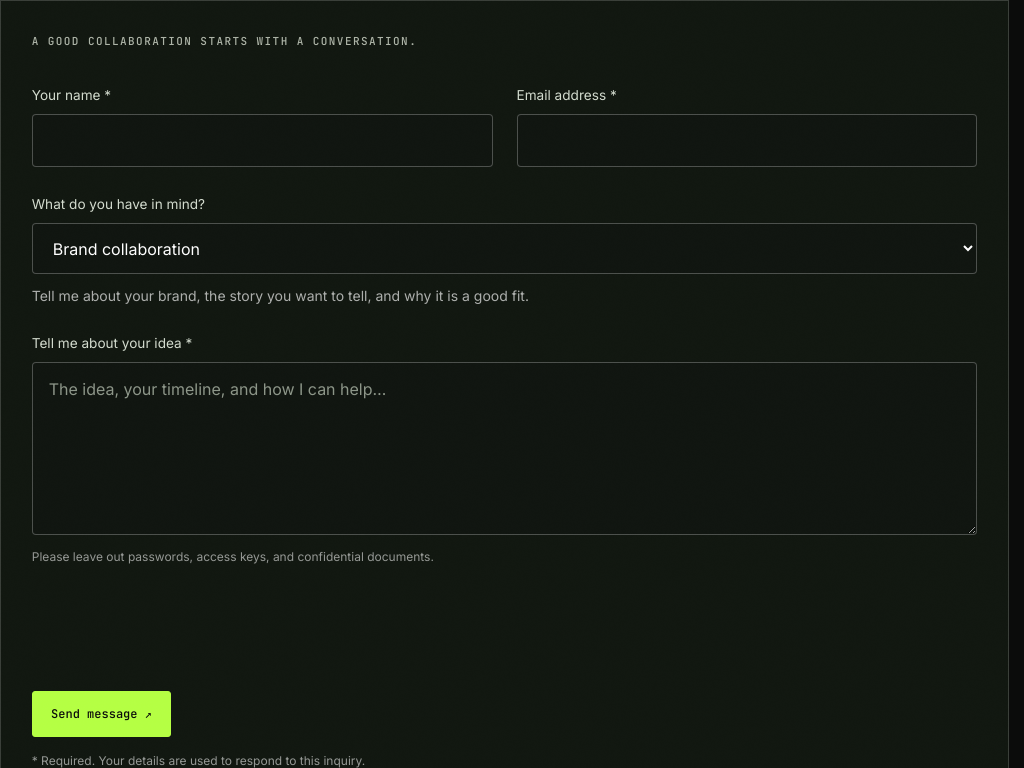
Scenario: contact submission states › includes g-recaptcha-response when the widget is present
Type "Preview Tester" into the field labelled "Your name *" at (262, 140), box left=32, top=114, right=492, bottom=167
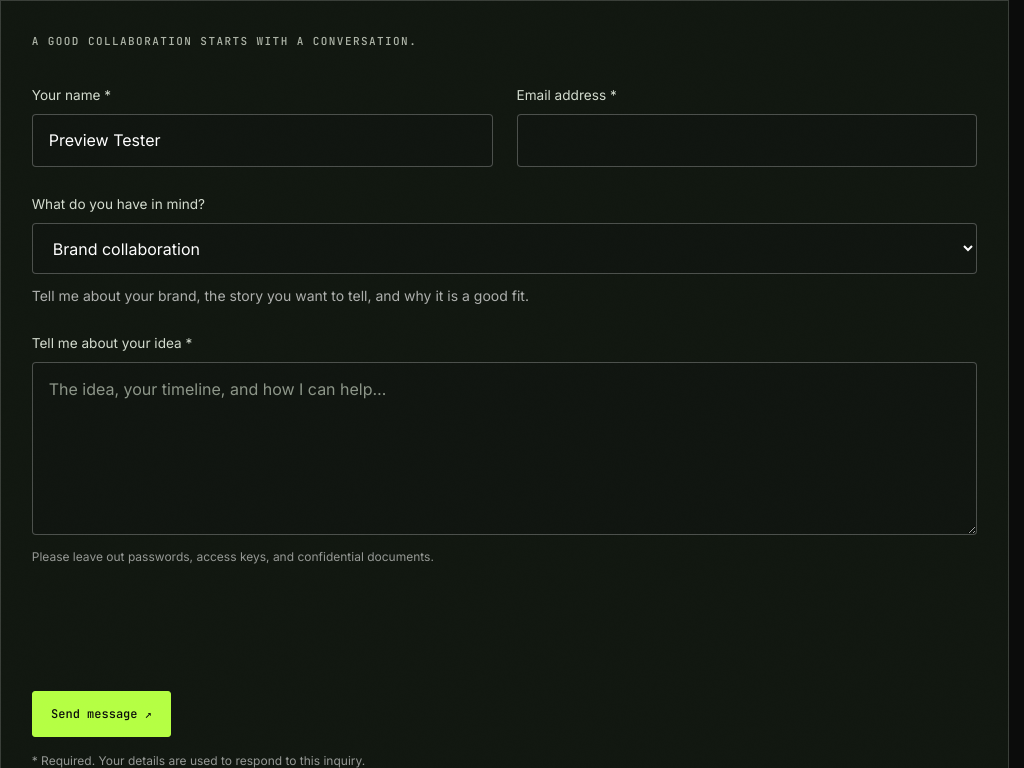
Type "test@example.com" into the field labelled "Email address *" at (747, 140), box left=516, top=114, right=977, bottom=167
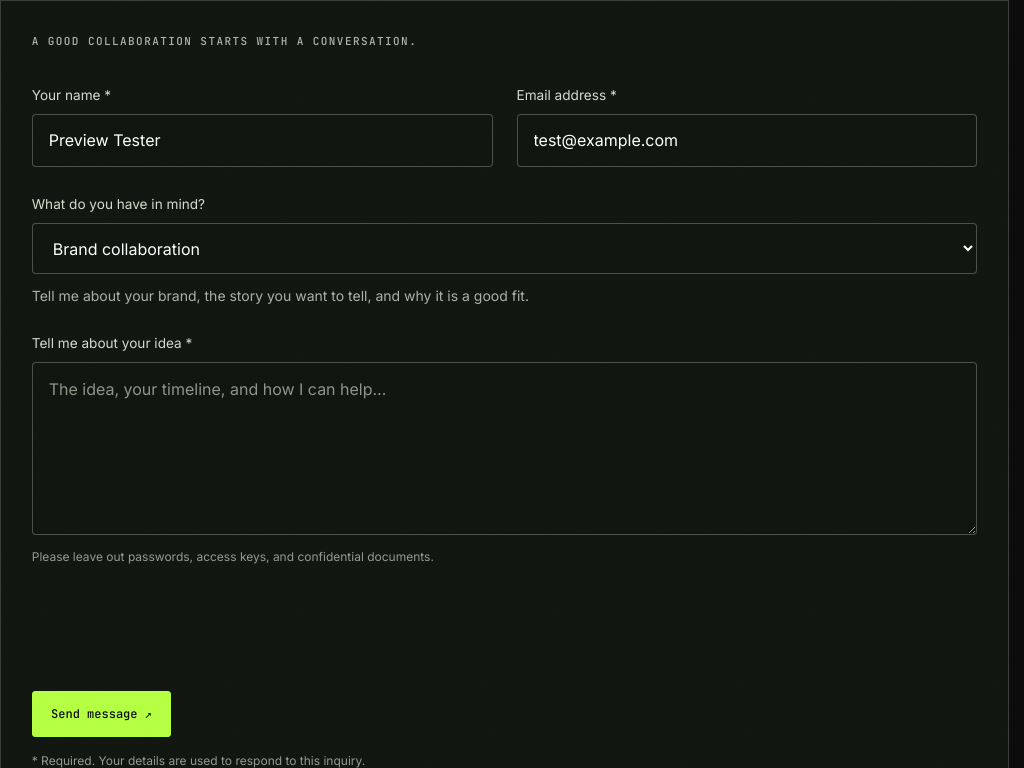
Type "This is a local test only." into the text box labelled "Tell me about your idea *" at (504, 449), box left=32, top=362, right=977, bottom=535
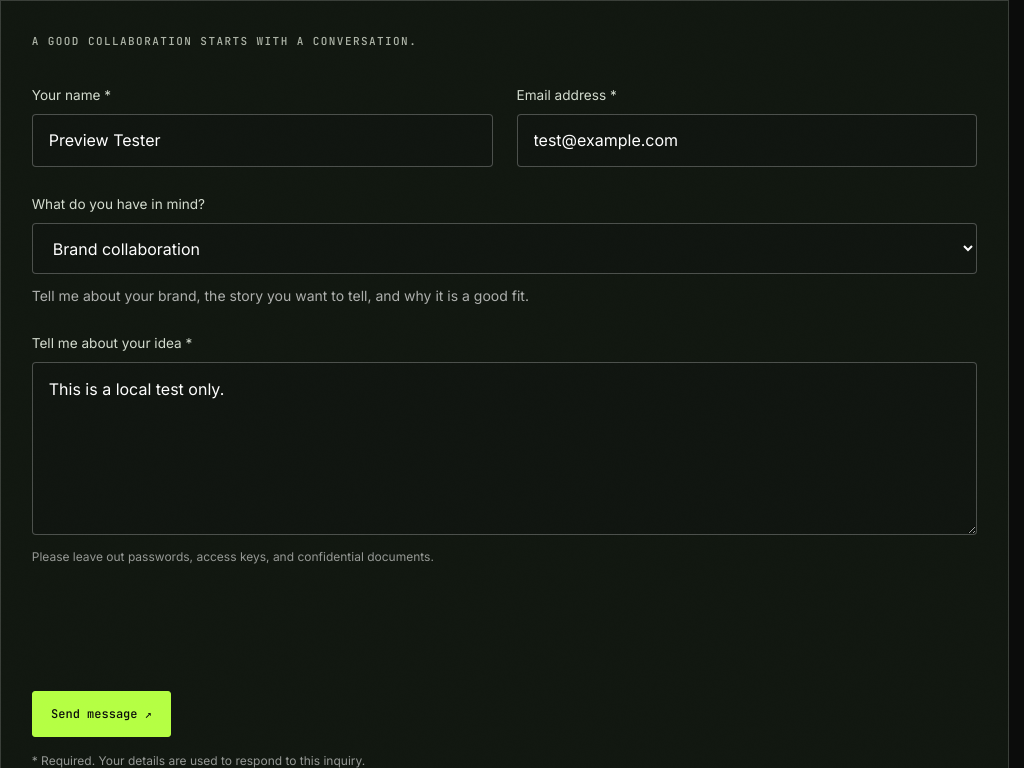
Click the button "Send message ↗" at (102, 714), box left=32, top=691, right=171, bottom=737
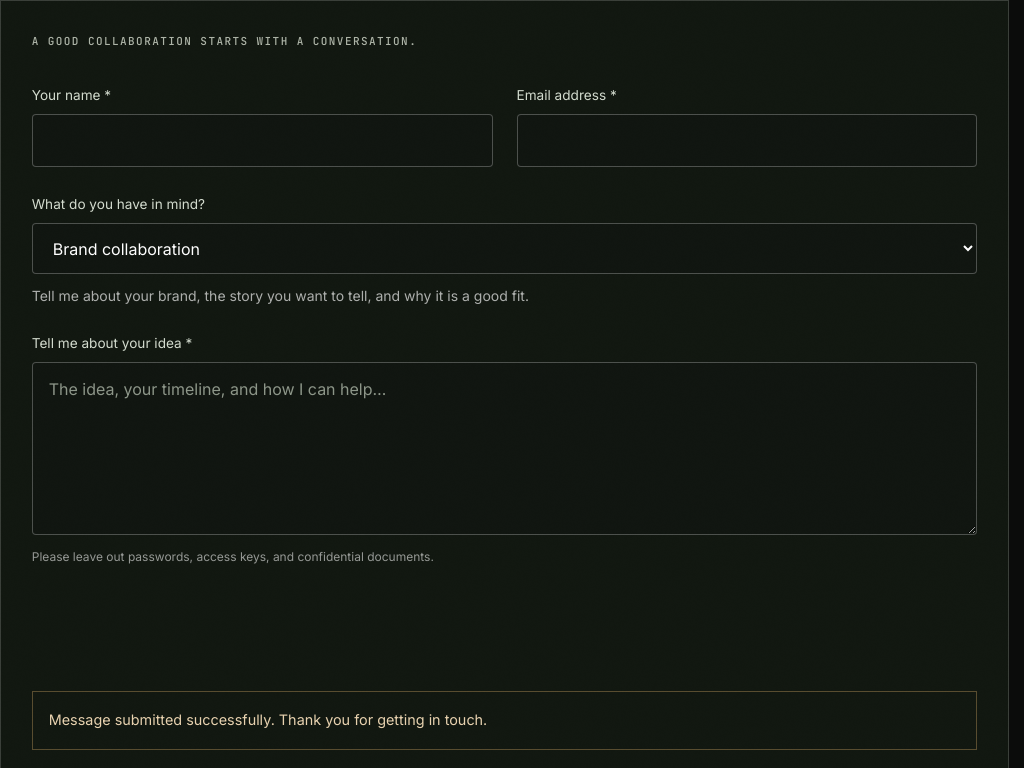
Check: the message shows "submitted successfully", box left=49, top=711, right=487, bottom=728
